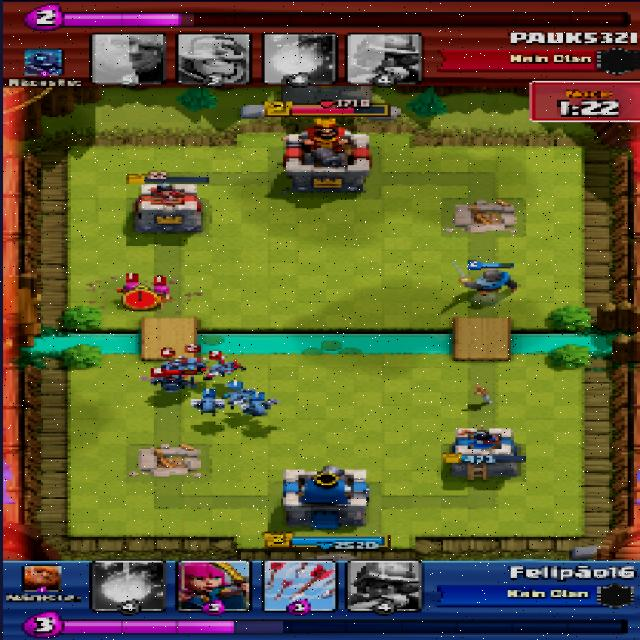Enemy-Archer: (153, 284, 170, 300), (118, 284, 140, 296)
Enemy-MiniPEKKA: (151, 373, 189, 390)
Enemy-Minion: (207, 362, 246, 376), (162, 358, 184, 376), (182, 358, 206, 371)
Player-Knight: (463, 271, 518, 294)
Player-Minion: (193, 399, 223, 414), (246, 398, 268, 417), (222, 387, 246, 403)
